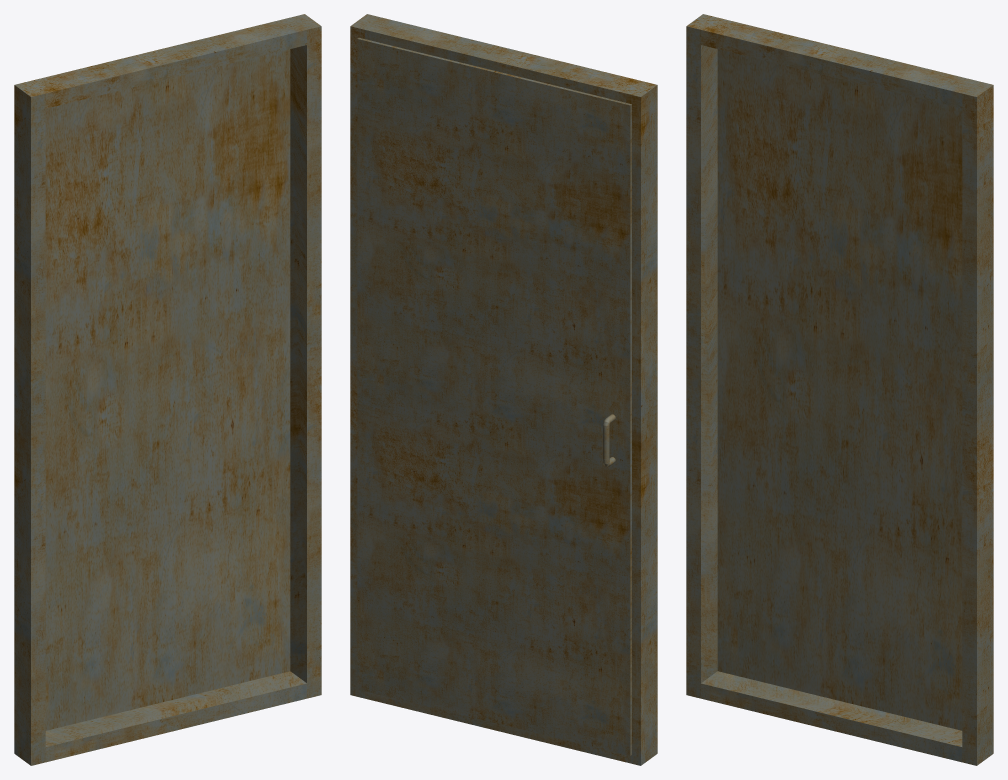
Rendered from MetalDoor_01.fbx.
3 views of the same model, side by side, from view 1: azimuth 30°, elevation 25°; view 2: azimuth 150°, elevation 25°; view 3: azimuth 330°, elevation 25° (orthographic).
Parts seen in each view (by area): view 1: Cube; view 2: Cube; view 3: Cube.
Part boxes in pixels (bbox=[...]): Cube: bbox=[14, 14, 321, 765]; Cube: bbox=[350, 14, 657, 765]; Cube: bbox=[686, 14, 993, 765].
Bounding box in the file's own units: 100 × 220 × 16.1.
